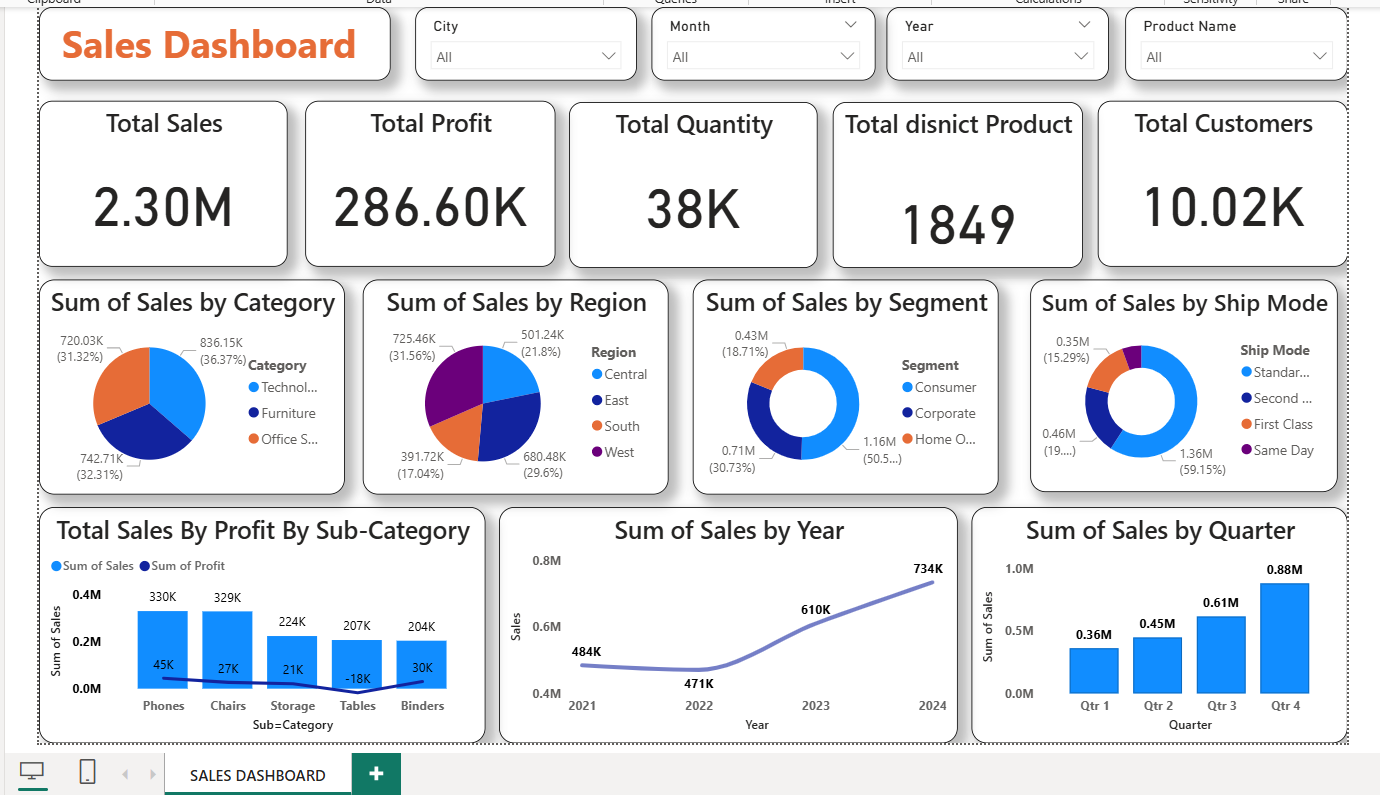

The dashboard page shown, as its layout file describes it:
{"tool":"powerbi","page":{"name":"SALES DASHBOARD","canvas":[1280,720],"ordinal":0},"visuals":[{"type":"card","title":"Total Sales","fields":{"Values":["Sum(Sales Data.Sales)"]},"box":[0,91.7,243.3,162.6],"z":0},{"type":"card","title":"Total Profit","fields":{"Values":["Sum(Sales Data.Profit)"]},"box":[260.5,91.7,244.6,162.6],"z":1000},{"type":"card","title":"Total Quantity","fields":{"Values":["Sum(Sales Data.Quantity)"]},"box":[518.5,92.9,243.3,162.6],"z":2000},{"type":"card","title":"Total disnict Product ","fields":{"Values":["Count(Sales Data.Product Name)"]},"box":[776.5,92.9,244.6,162.6],"z":3000},{"type":"card","title":"Total Customers","fields":{"Values":["CountNonNull(Sales Data.Customer Name)"]},"box":[1035.7,91.7,244.6,162.6],"z":4000},{"type":"pieChart","fields":{"Y":["Sum(Sales Data.Sales)"],"Category":["Sales Data.Category"]},"box":[0,266.6,299.6,210.3],"z":5000},{"type":"pieChart","fields":{"Series":["Sales Data.Region"],"Y":["Sum(Sales Data.Sales)"]},"box":[316.7,266.6,299.6,210.3],"z":6000},{"type":"donutChart","fields":{"Category":["Sales Data.Segment"],"Y":["Sum(Sales Data.Sales)"]},"box":[639.5,266.6,299.6,210.3],"z":7000},{"type":"donutChart","fields":{"Y":["Sum(Sales Data.Sales)"],"Category":["Sales Data.Ship Mode"]},"box":[969.7,266.6,300.8,207.9],"z":8000},{"type":"lineStackedColumnComboChart","title":"Total Sales By Profit By Sub-Category","fields":{"Y":["Sum(Sales Data.Sales)"],"Category":["Sales Data.Sub-Category"],"Y2":["Sum(Sales Data.Profit)"]},"box":[0,489.1,436.6,231.1],"z":9000},{"type":"lineChart","fields":{"Category":["Sales Data.Order Date.Variation.Date Hierarchy.Year"],"Y":["Sum(Sales Data.Sales)"]},"box":[450,489.1,448.8,231.1],"z":10000},{"type":"columnChart","fields":{"Y":["Sum(Sales Data.Sales)"],"Category":["Sales Data.Order Date.Variation.Date Hierarchy.Quarter"]},"box":[912.2,489.1,368.1,231.1],"z":11000},{"type":"textbox","box":[0,0,343.6,72.1],"z":12000},{"type":"slicer","fields":{"Values":["Sales Data.City"]},"box":[368.1,0,216.4,72.1],"z":13000},{"type":"slicer","fields":{"Values":["Sales Data.Order Date.Variation.Date Hierarchy.Month"]},"box":[599.2,0,218.9,72.1],"z":14000},{"type":"slicer","fields":{"Values":["Sales Data.Order Date.Variation.Date Hierarchy.Year"]},"box":[829.1,0,217.7,72.1],"z":15000},{"type":"slicer","fields":{"Values":["Sales Data.Product Name"]},"box":[1062.6,0,217.7,72.1],"z":16000}]}

Visuals, with their boxes in screenshot pixels (x1, y1, x2, y2):
"Total Sales" card: 32,94,282,261
"Total Profit" card: 299,94,550,261
"Total Quantity" card: 564,95,814,262
"Total disnict Product " card: 829,95,1080,262
"Total Customers" card: 1094,94,1345,261
pieChart - Sum(Sales Data.Sales) x Sales Data.Category: 32,273,340,489
pieChart - Sales Data.Region x Sum(Sales Data.Sales): 357,273,664,489
donutChart - Sales Data.Segment x Sum(Sales Data.Sales): 688,273,995,489
donutChart - Sum(Sales Data.Sales) x Sales Data.Ship Mode: 1027,273,1335,487
"Total Sales By Profit By Sub-Category" lineStackedColumnComboChart: 32,502,480,739
lineChart - Sales Data.Order Date.Variation.Date Hierarchy.Year x Sum(Sales Data.Sales): 494,502,954,739
columnChart - Sum(Sales Data.Sales) x Sales Data.Order Date.Variation.Date Hierarchy.Quarter: 968,502,1345,739
textbox: 32,0,385,74
slicer - Sales Data.City: 410,0,632,74
slicer - Sales Data.Order Date.Variation.Date Hierarchy.Month: 647,0,871,74
slicer - Sales Data.Order Date.Variation.Date Hierarchy.Year: 883,0,1106,74
slicer - Sales Data.Product Name: 1122,0,1345,74
